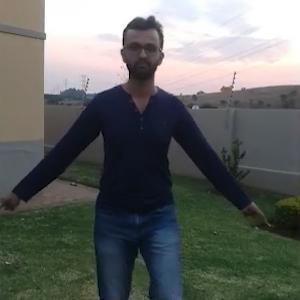land: (29, 37, 239, 298)
